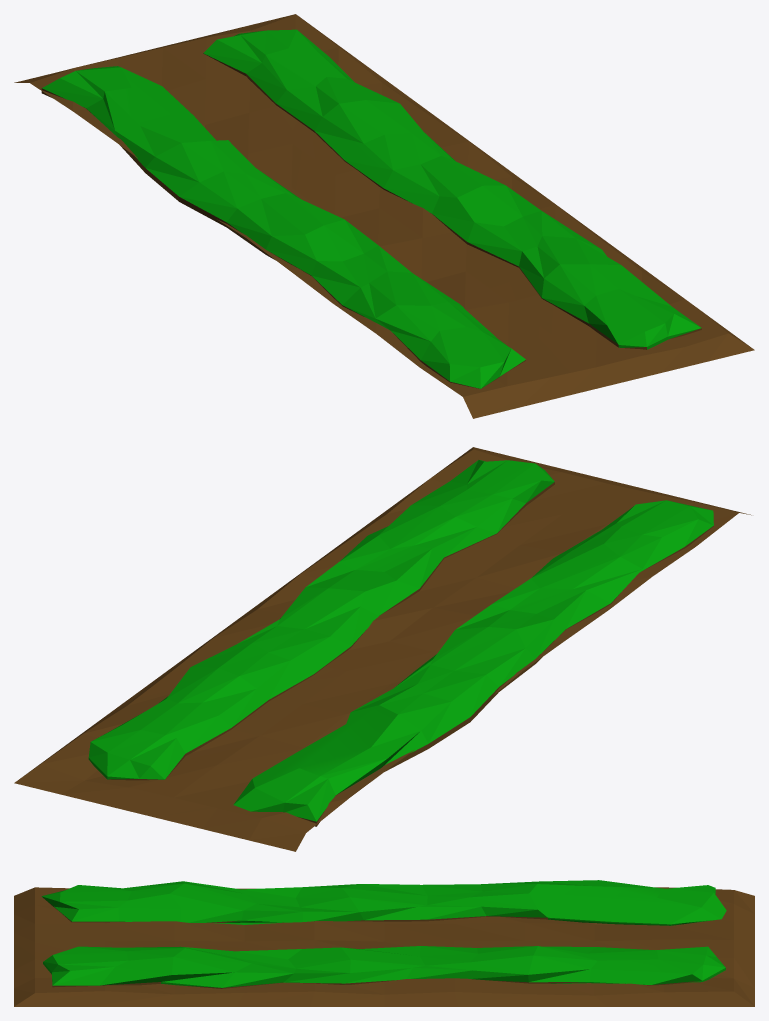
The model's file is Farm.fbx.
The picture shows the model from 3 angles, top to bottom: view 1: azimuth 30°, elevation 25°; view 2: azimuth 150°, elevation 25°; view 3: azimuth 270°, elevation 25°; orthographic projection. The views are drawn at different scales.
Parts seen in each view (by area): view 1: farm; view 2: farm; view 3: farm.
Part boxes in pixels (x1,y1,x2,y2): farm: [14, 14, 754, 418]; farm: [14, 447, 751, 851]; farm: [14, 880, 754, 1006].
Size of the model in its own units: 1.83 by 0.1887 by 5.08.
